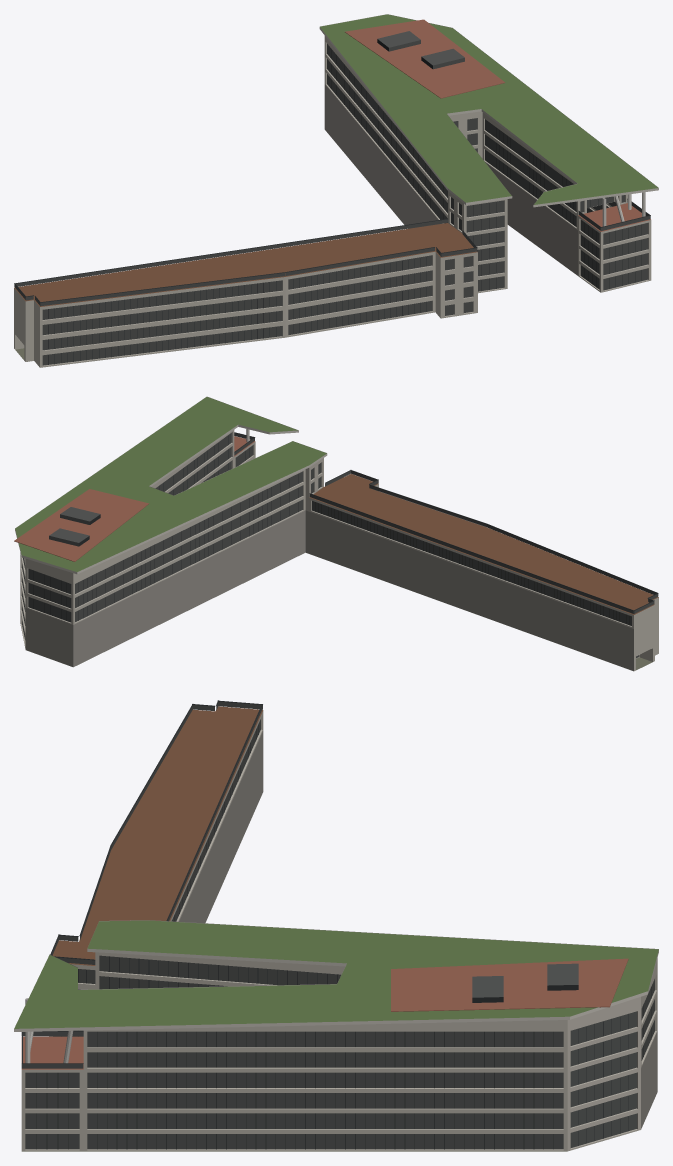
3 views of the same model, one above another, from view 1: azimuth 30°, elevation 25°; view 2: azimuth 150°, elevation 25°; view 3: azimuth 270°, elevation 25° (orthographic). The views are drawn at different scales.
Parts seen in each view (by area): view 1: studentUnion__glass, studentUnion__wall, studentUnion__roofGreen, studentUnion__deck, studentUnion__base, studentUnion__paving, studentUnion__frame, studentUnion__trim, studentUnion__roofGlass; view 2: studentUnion__base, studentUnion__glass, studentUnion__roofGreen, studentUnion__wall, studentUnion__deck, studentUnion__paving, studentUnion__frame, studentUnion__trim, studentUnion__roofGlass; view 3: studentUnion__glass, studentUnion__roofGreen, studentUnion__wall, studentUnion__deck, studentUnion__paving, studentUnion__frame, studentUnion__base, studentUnion__trim, studentUnion__roofGlass.
Part boxes in pixels (x1,y1,x2,y2): studentUnion__glass: (14, 44, 650, 365); studentUnion__wall: (14, 36, 651, 367); studentUnion__roofGreen: (320, 14, 657, 204); studentUnion__deck: (14, 223, 477, 306); studentUnion__base: (324, 84, 577, 275); studentUnion__paving: (345, 19, 650, 231); studentUnion__frame: (14, 39, 650, 364); studentUnion__trim: (319, 14, 658, 207); studentUnion__roofGlass: (377, 31, 464, 69); studentUnion__base: (25, 510, 633, 671); studentUnion__glass: (22, 433, 658, 658); studentUnion__roofGreen: (15, 397, 326, 571); studentUnion__wall: (20, 430, 658, 671); studentUnion__deck: (309, 474, 658, 614); studentUnion__paving: (14, 436, 254, 561); studentUnion__frame: (33, 432, 658, 624); studentUnion__trim: (15, 396, 327, 574); studentUnion__roofGlass: (49, 507, 100, 546); studentUnion__glass: (21, 701, 654, 1149); studentUnion__roofGreen: (14, 920, 658, 1028); studentUnion__wall: (21, 710, 657, 1151); studentUnion__deck: (52, 706, 262, 965); studentUnion__paving: (21, 958, 628, 1069); studentUnion__frame: (21, 700, 651, 1149); studentUnion__base: (179, 731, 657, 1128); studentUnion__trim: (14, 920, 658, 1031); studentUnion__roofGlass: (472, 963, 578, 997).
Size of the model in its own units: 139 by 25.34 by 103.
